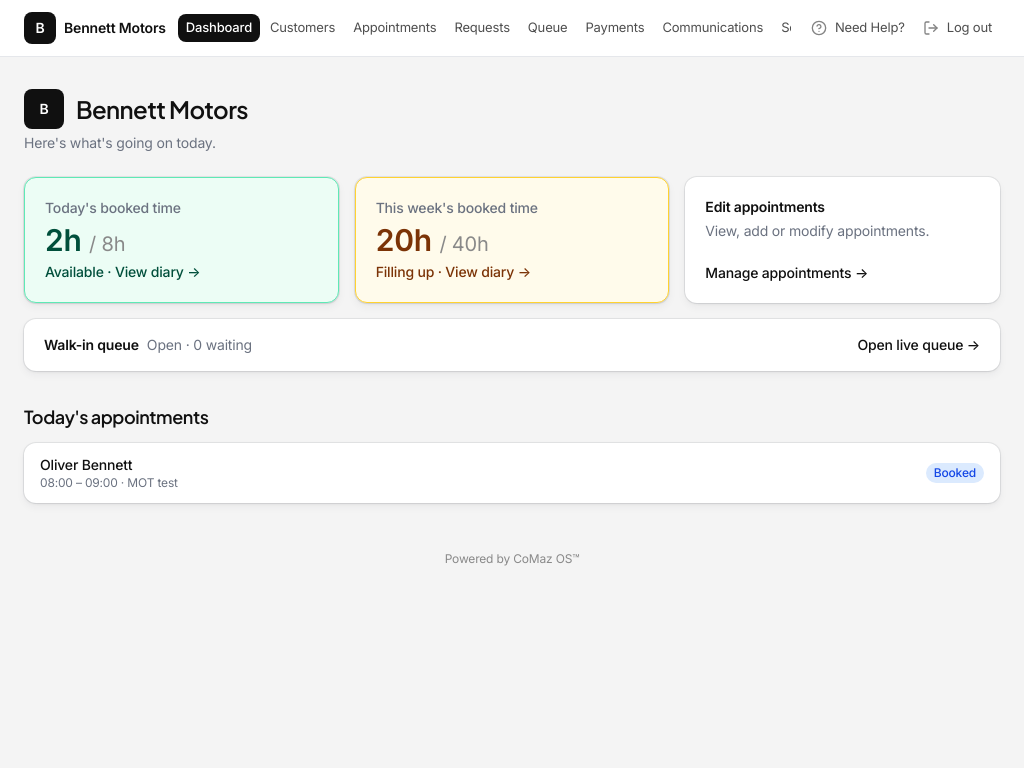
navigating between pages › moves from the dashboard to customers through the nav
Check: the text "Here's what's going on today." is shown, box [24, 134, 216, 151]
Click the link "Customers": (303, 27) [270, 19, 335, 35]
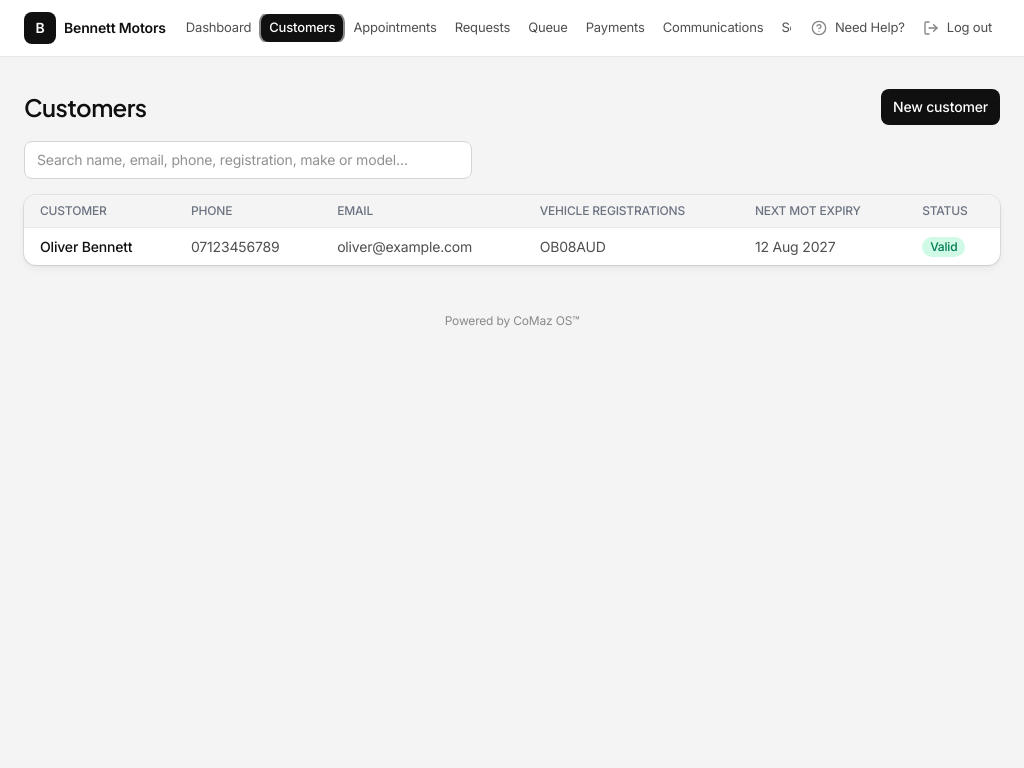
Check: the heading "Customers" is shown, box [24, 91, 146, 123]
